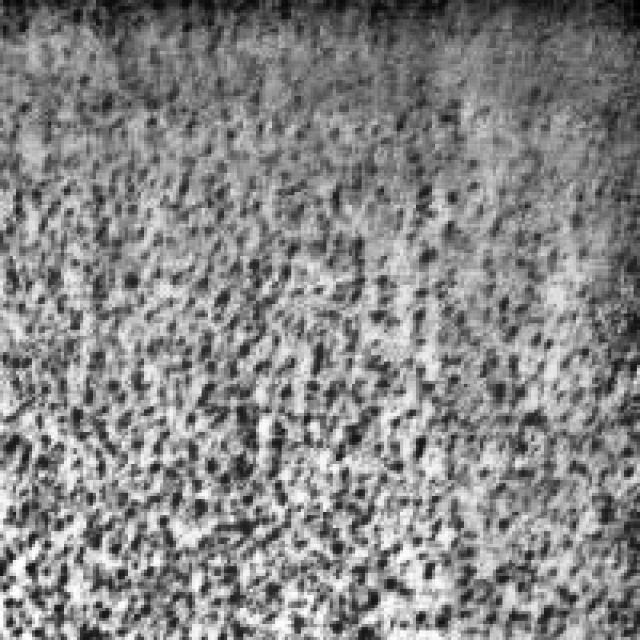Rolled_in_Scale: (4, 115, 566, 627)
